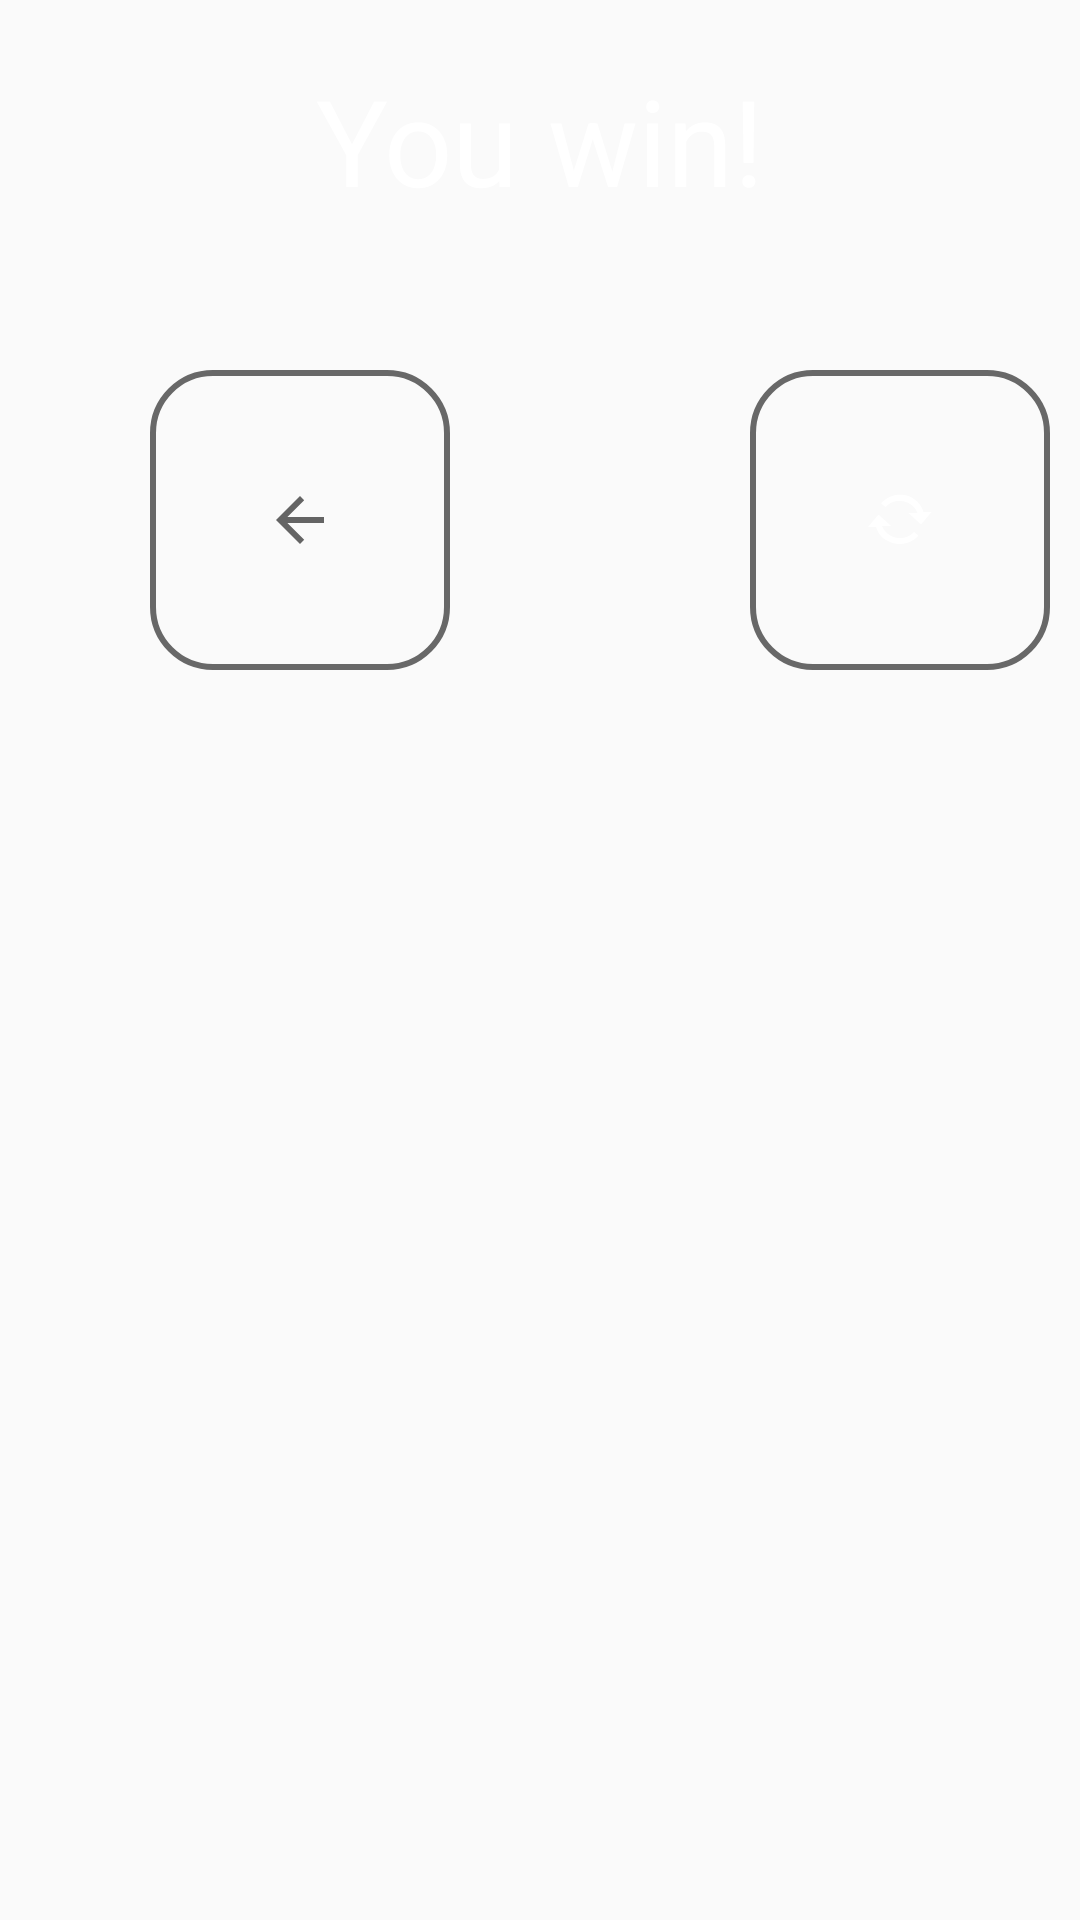

Named icons in this screenshot (1080px x 1920px) and their centers, (x=x, y=y):
sync: (x=900, y=520)
